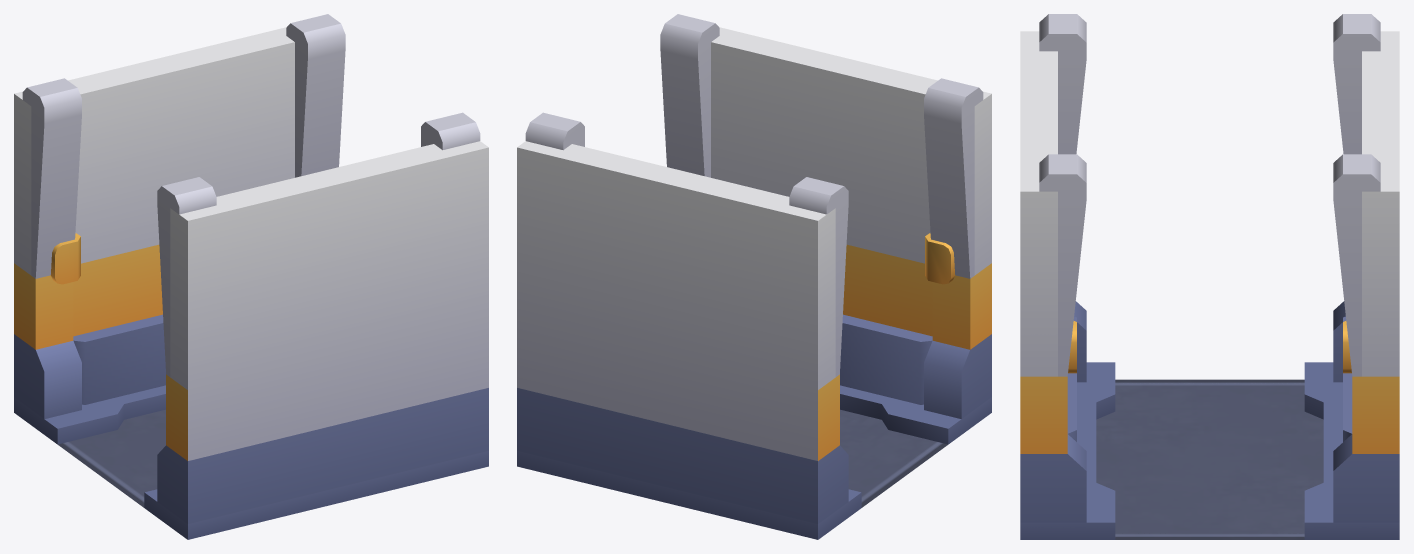
File: kenney-space-corridor.glb
3 views of the same model, side by side, from view 1: azimuth 30°, elevation 25°; view 2: azimuth 150°, elevation 25°; view 3: azimuth 270°, elevation 25° (orthographic). The views are drawn at different scales.
Visible parts, largest first — view 1: corridor; view 2: corridor; view 3: corridor.
Boxes of the visible parts, x1,y1,x2,y2 form: corridor: [14, 14, 488, 539]; corridor: [517, 14, 991, 539]; corridor: [1020, 14, 1399, 539].
Size of the model in its own units: 3 by 3.19 by 3.
Materials: 1 (1 with a texture image).
